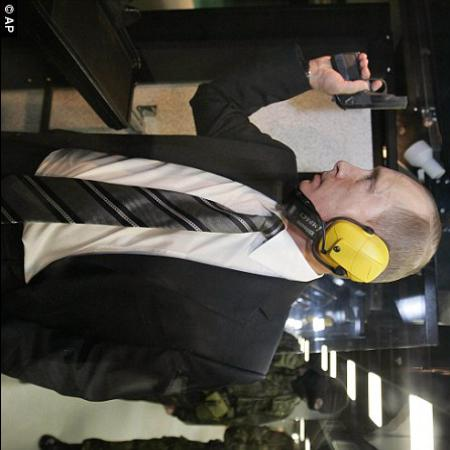Pistol: (329, 50, 409, 110)
